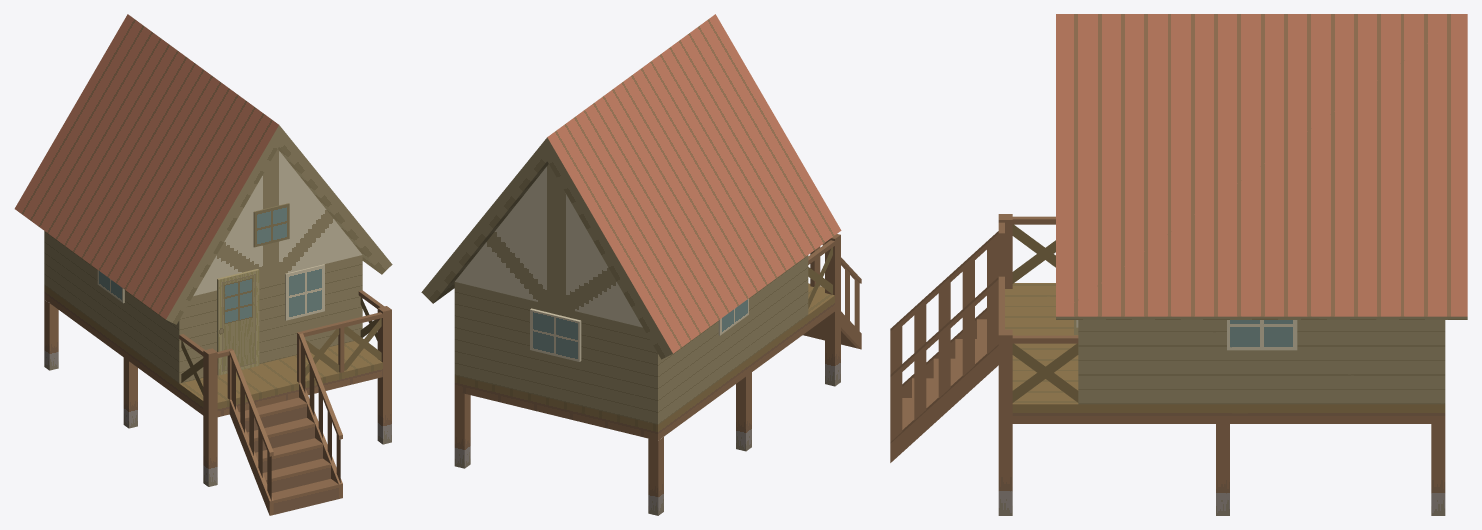
File: 0459_Bungalow.glb
3 views of the same model, side by side, from view 1: azimuth 30°, elevation 25°; view 2: azimuth 150°, elevation 25°; view 3: azimuth 270°, elevation 25° (orthographic). The views are drawn at different scales.
Visible parts, largest first — view 1: part_0; view 2: part_0; view 3: part_0.
Part boxes in pixels (left/top/right/bottom): part_0: left=14, top=14, right=392, bottom=515; part_0: left=421, top=14, right=861, bottom=515; part_0: left=890, top=14, right=1467, bottom=515.
Size of the model in its own units: 5.71 by 7.93 by 9.27.
1 material, 1 textured.
